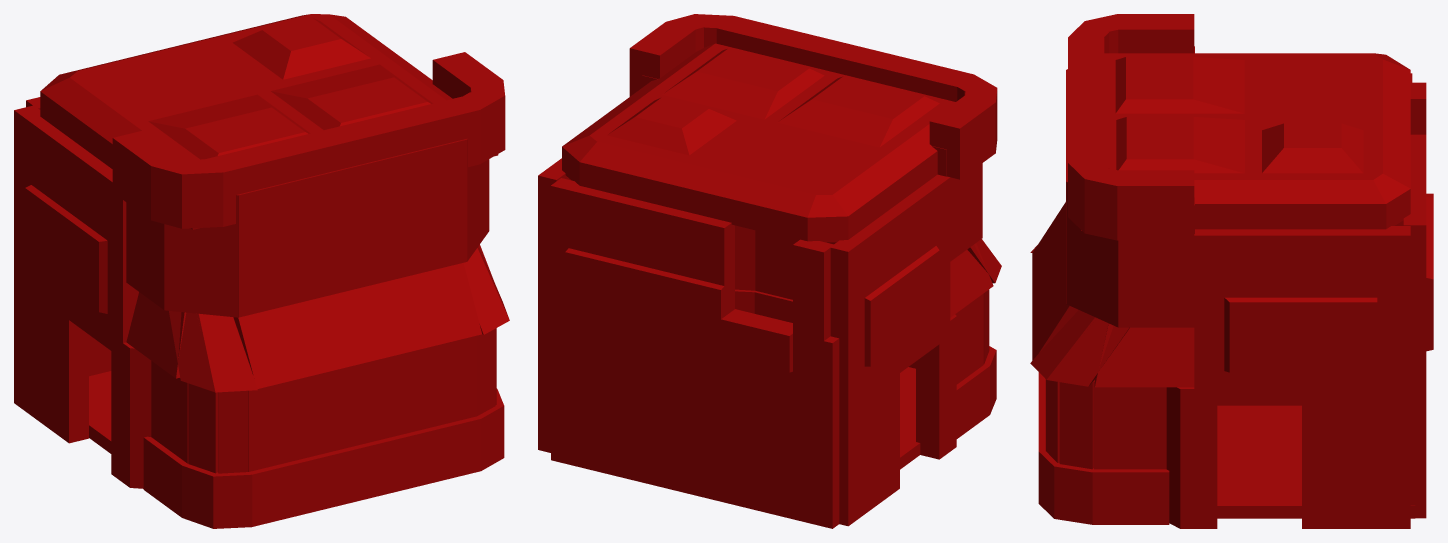
The model's file is SM_Bld_Vendor_09_Collision.fbx.
3 renders of one model, left to right at view 1: azimuth 30°, elevation 25°; view 2: azimuth 150°, elevation 25°; view 3: azimuth 270°, elevation 25°, orthographic. The views are drawn at different scales.
Visible parts, largest first — view 1: SM_Bld_Vendor_09_Collision; view 2: SM_Bld_Vendor_09_Collision; view 3: SM_Bld_Vendor_09_Collision.
Part boxes in pixels (x1,y1,x2,y2): SM_Bld_Vendor_09_Collision: (14, 14, 509, 528); SM_Bld_Vendor_09_Collision: (538, 14, 1001, 528); SM_Bld_Vendor_09_Collision: (1030, 14, 1433, 528).
Bounding box in the file's own units: 867 × 817 × 859.
